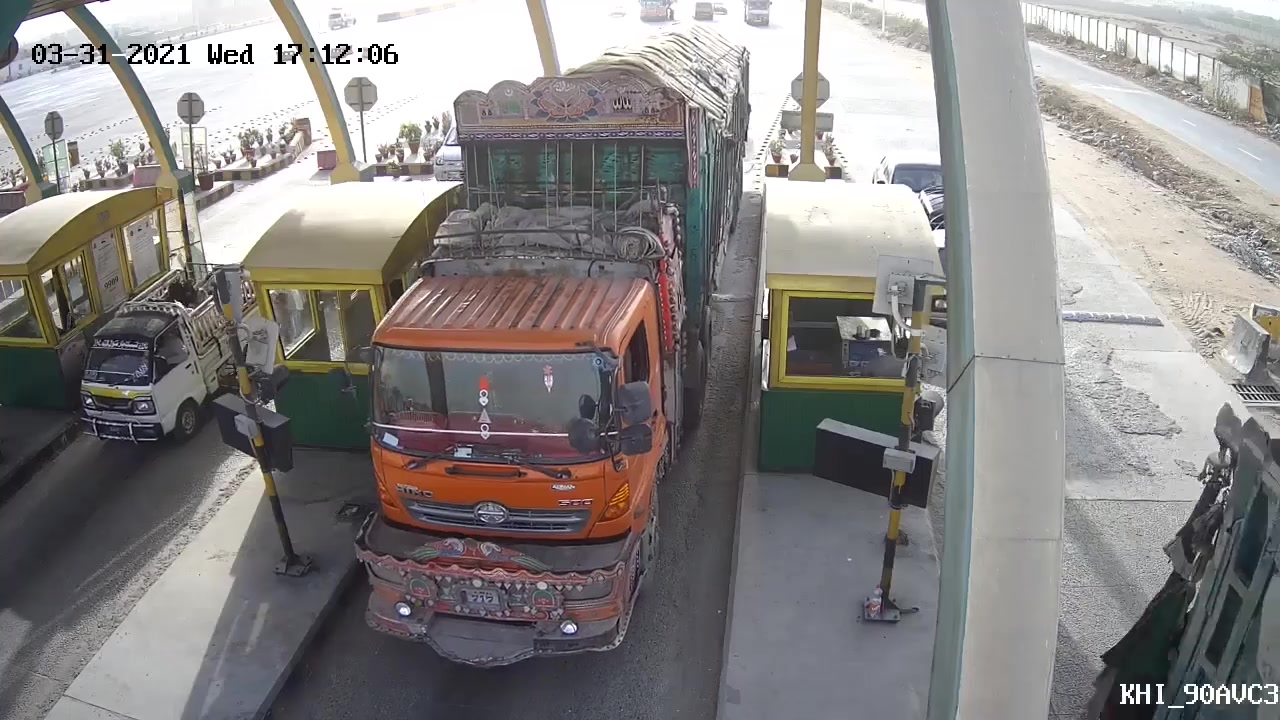F6: (348, 30, 747, 674)
